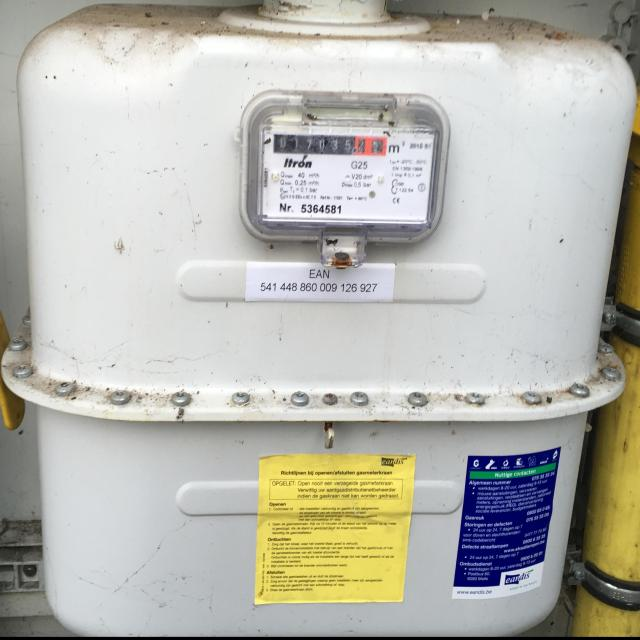gaz_meter: (258, 116, 436, 232)
indication: (272, 132, 389, 155)
